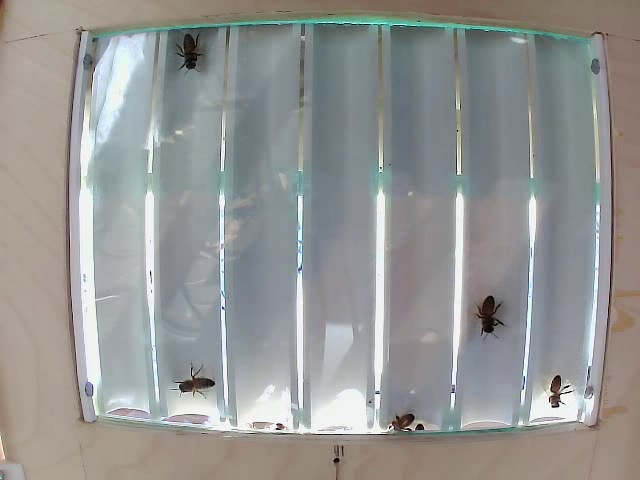bee: (460, 280, 508, 329), (176, 32, 217, 84), (180, 372, 226, 410)
